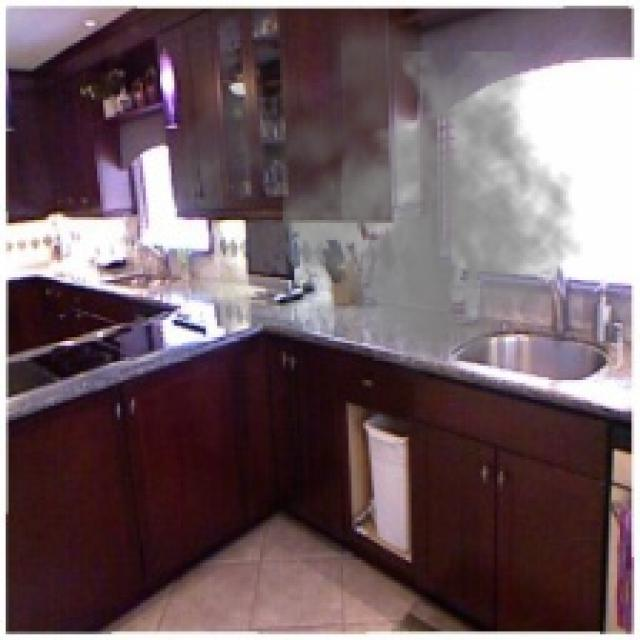smoke: (174, 6, 583, 388)
